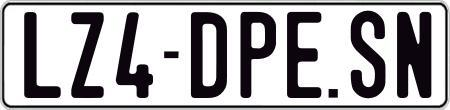4: (113, 10, 153, 96)
D: (188, 12, 225, 103)
E: (287, 12, 323, 99)
L: (24, 12, 61, 103)
N: (396, 12, 430, 102)
P: (240, 9, 275, 96)
S: (351, 10, 386, 100)
Z: (70, 10, 106, 96)
